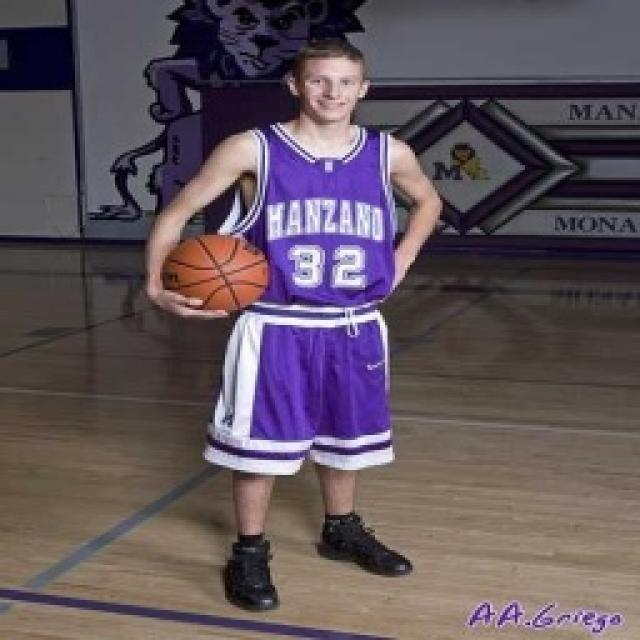rim: (157, 226, 274, 316)
